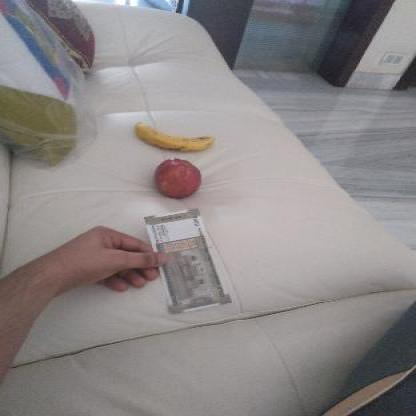New500Back: (150, 206, 230, 314)
